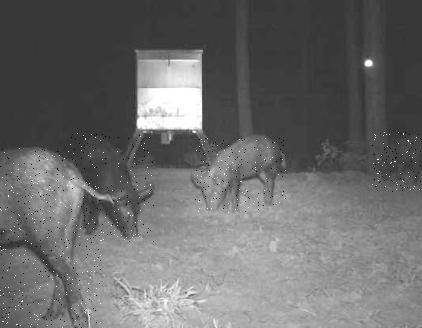Hog: (0, 147, 101, 328), (70, 133, 154, 242), (195, 137, 286, 214), (372, 132, 422, 192)
